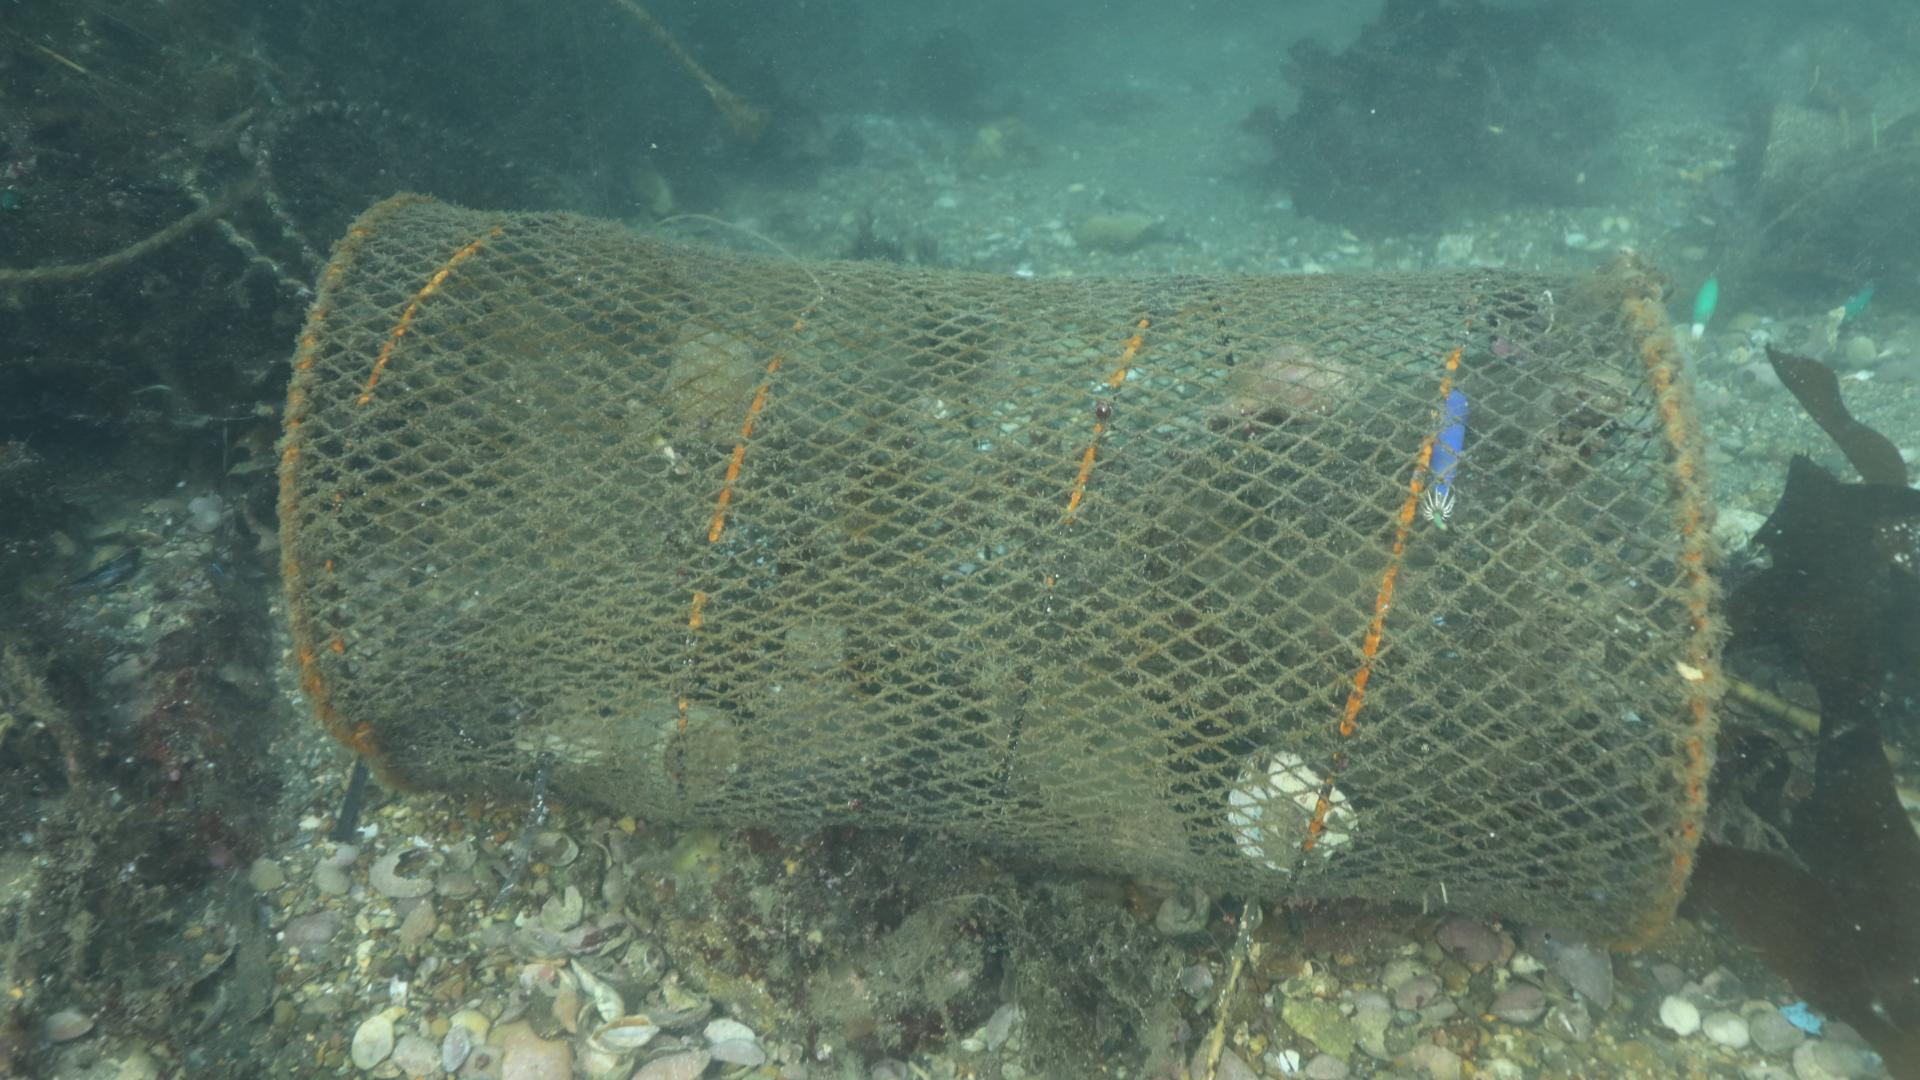rope: (0, 161, 277, 289)
spring fish trap: (272, 189, 1730, 953)
